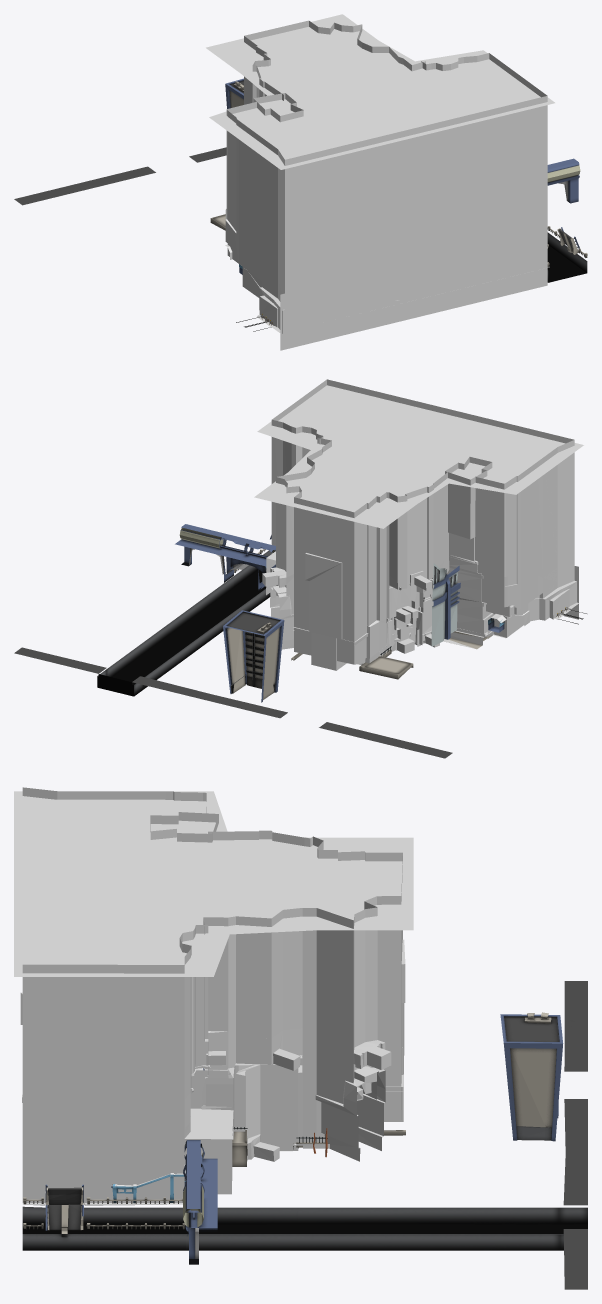
The model's file is Plaza_1.fbx.
3 renders of one model, top to bottom at view 1: azimuth 30°, elevation 25°; view 2: azimuth 150°, elevation 25°; view 3: azimuth 270°, elevation 25°, orthographic. The views are drawn at different scales.
Parts seen in each view (by area): view 1: Plaza_Col9, Plaza_Col14, Plaza_Col20, Plaza_Baked1, Plaza_Col21, Plaza_Col16, Plaza_Col10, Plaza_Col15, Plaza_Col17, Plaza_Col12, Plaza_Col11, Plaza_Col19 (+7 smaller); view 2: Plaza_Baked1, Plaza_Col21, Plaza_Col17, Plaza_Col18, Plaza_Col20, Plaza_Col13, Plaza_Col16, Plaza_Col19, Plaza_Col14, Plaza_Col10, Plaza_Col15, Plaza_Col12 (+11 smaller); view 3: Plaza_Baked1, Plaza_Col2, Plaza_Col6, Plaza_Col12, Plaza_Col7, Plaza_Col13, Plaza_Col16, Plaza_Col11, Plaza_Col15, Plaza_Col10, Plaza_Col20, Plaza_Col17 (+10 smaller).
Boxes of the visible parts, x1,y1,x2,y2 form: Plaza_Col9: (285, 93, 547, 348); Plaza_Col14: (285, 96, 546, 349); Plaza_Col20: (239, 101, 313, 319); Plaza_Baked1: (14, 78, 587, 282); Plaza_Col21: (209, 93, 285, 269); Plaza_Col16: (264, 57, 345, 126); Plaza_Col10: (382, 61, 450, 136); Plaza_Col15: (290, 84, 381, 153); Plaza_Col17: (241, 34, 309, 102); Plaza_Col12: (310, 14, 378, 83); Plaza_Col11: (346, 41, 414, 109); Plaza_Col19: (269, 127, 349, 330); Plaza_Baked1: (14, 524, 452, 758); Plaza_Col21: (445, 462, 549, 647); Plaza_Col17: (319, 483, 448, 659); Plaza_Col18: (294, 496, 416, 670); Plaza_Col20: (449, 445, 583, 637); Plaza_Col13: (255, 484, 353, 670); Plaza_Col16: (353, 454, 484, 648); Plaza_Col19: (486, 431, 583, 608); Plaza_Col14: (327, 379, 574, 618); Plaza_Col10: (311, 414, 451, 449); Plaza_Col15: (387, 430, 516, 468); Plaza_Col12: (254, 463, 385, 649); Plaza_Baked1: (22, 981, 587, 1289); Plaza_Col2: (22, 930, 213, 1205); Plaza_Col6: (114, 916, 271, 1161); Plaza_Col12: (214, 884, 412, 1151); Plaza_Col7: (236, 908, 362, 1161); Plaza_Col13: (314, 884, 413, 1150); Plaza_Col16: (114, 829, 312, 1069); Plaza_Col11: (114, 884, 312, 1138); Plaza_Col15: (14, 829, 212, 883); Plaza_Col10: (14, 884, 228, 934); Plaza_Col20: (15, 791, 217, 837); Plaza_Col17: (237, 830, 412, 883).
Bounding box in the file's own units: 479 × 190 × 376.
29 materials, 4 textured.
